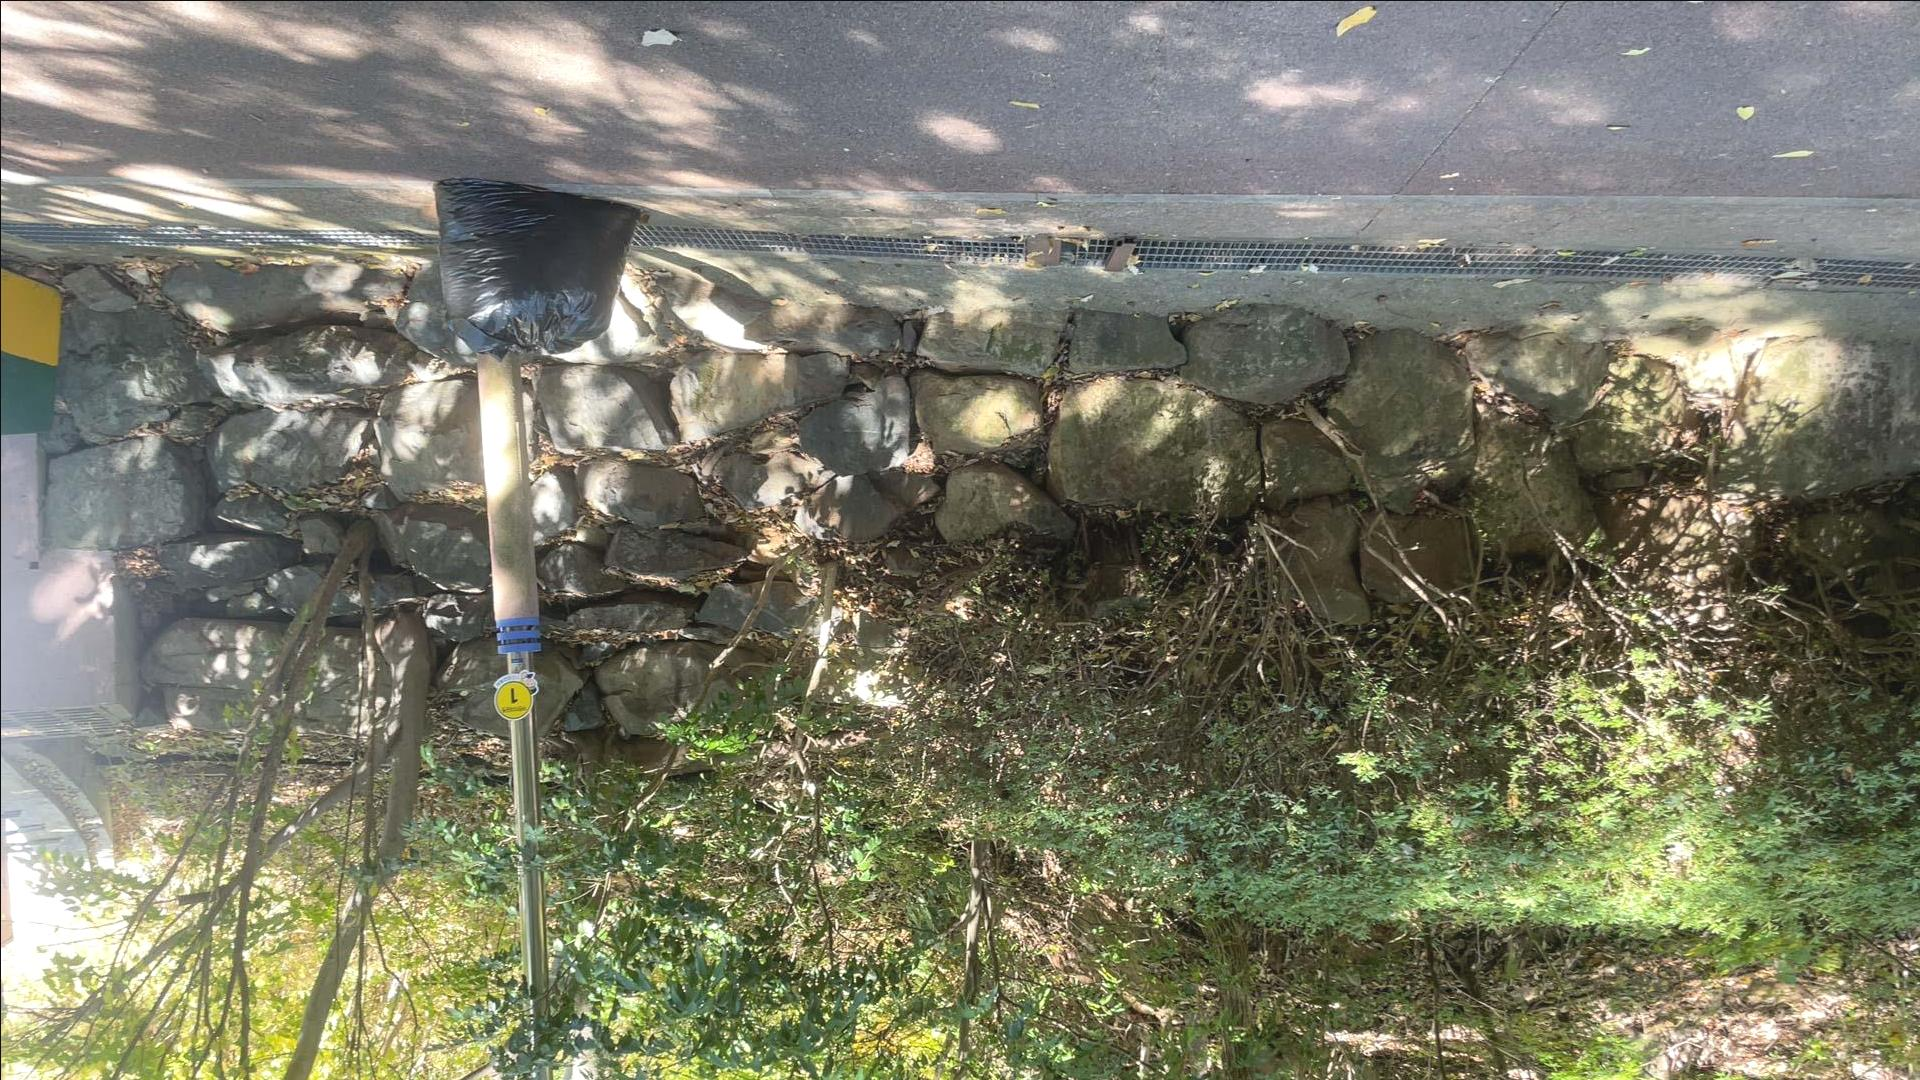black_bag: (419, 169, 655, 375)
